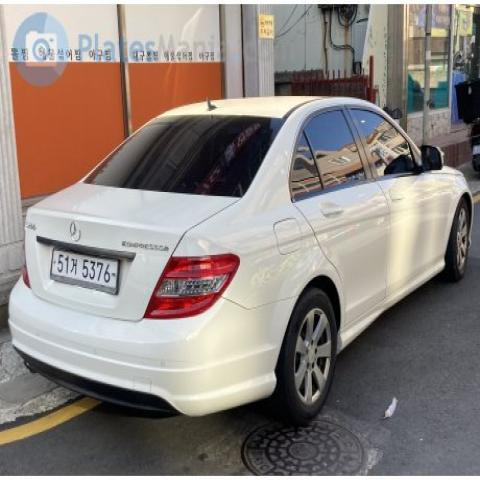LP: (44, 236, 128, 300)
